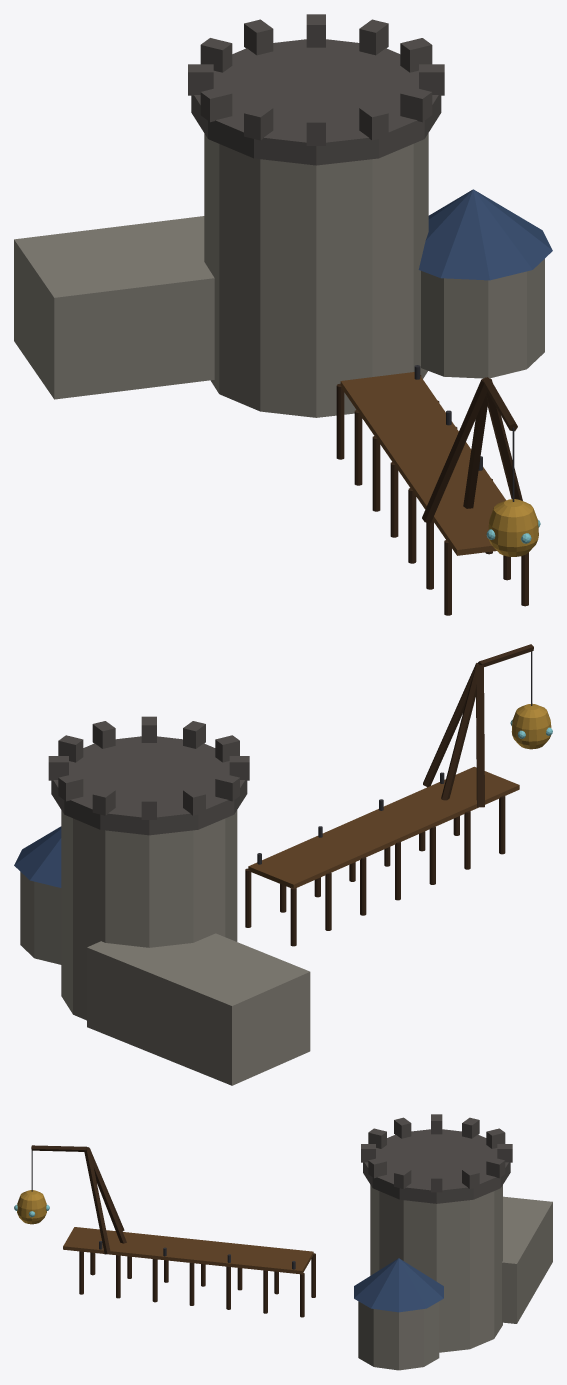
The model's file is arch_saltwatch_keep.glb.
3 views of the same model, one above another, from view 1: azimuth 30°, elevation 25°; view 2: azimuth 150°, elevation 25°; view 3: azimuth 270°, elevation 25° (orthographic). The views are drawn at different scales.
Visible parts, largest first — view 1: geometry_0; view 2: geometry_0; view 3: geometry_0.
Boxes of the visible parts, x1,y1,x2,y2 form: geometry_0: (14,14,552,615); geometry_0: (14,644,552,1085); geometry_0: (14,1114,552,1370).
Bounding box in the file's own units: 30.84 × 20.8 × 56.91.
